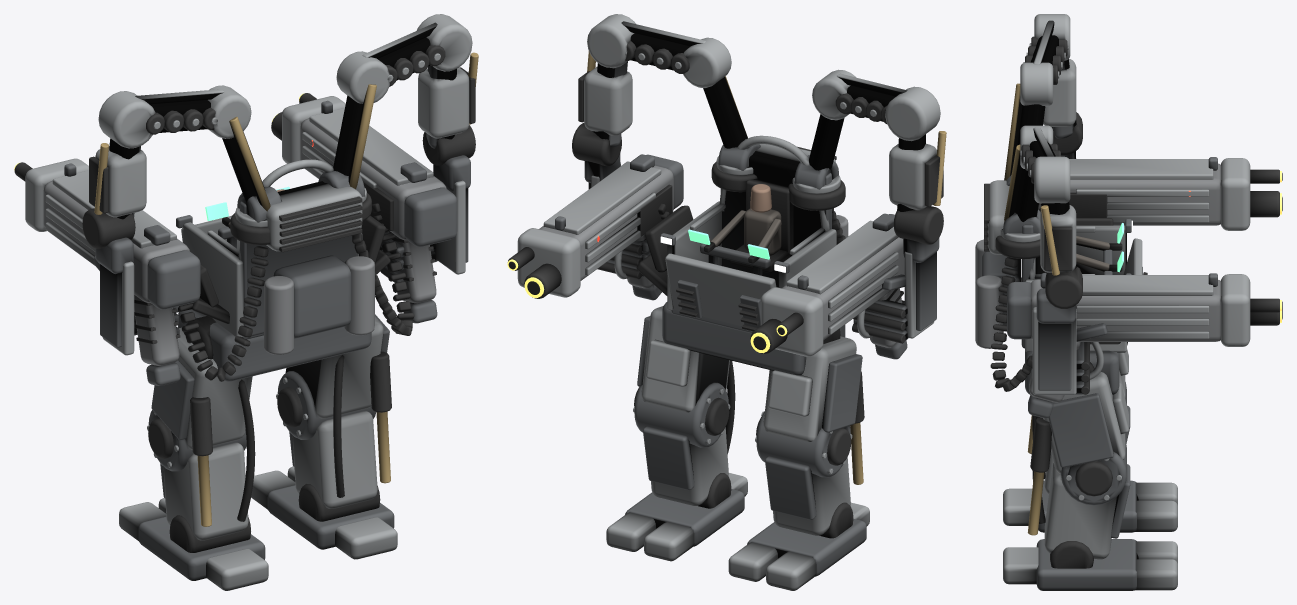
The model's file is apu.glb.
3 renders of one model, left to right at view 1: azimuth 30°, elevation 25°; view 2: azimuth 150°, elevation 25°; view 3: azimuth 270°, elevation 25°, orthographic. The views are drawn at different scales.
Visible parts, largest first — view 1: Body_mesh, LegL_mesh, LegR_mesh, ArmL_mesh, ArmR_mesh, SpinR_mesh, SpinL_mesh, GunL_mesh, GunR_mesh, BarrelsR_mesh, BarrelsL_mesh; view 2: Body_mesh, LegL_mesh, LegR_mesh, ArmR_mesh, ArmL_mesh, SpinR_mesh, SpinL_mesh, GunL_mesh, BarrelsL_mesh, BarrelsR_mesh, GunR_mesh, Pilot_mesh; view 3: LegR_mesh, SpinR_mesh, Body_mesh, SpinL_mesh, ArmR_mesh, ArmL_mesh, GunR_mesh, LegL_mesh, BarrelsL_mesh, BarrelsR_mesh, GunL_mesh, Pilot_mesh.
Boxes of the visible parts, <box> form: Body_mesh: <box>176,159,390,381</box>; LegL_mesh: <box>119,327,268,590</box>; LegR_mesh: <box>251,314,397,559</box>; ArmL_mesh: <box>89,85,281,381</box>; ArmR_mesh: <box>318,14,478,335</box>; SpinR_mesh: <box>300,100,457,323</box>; SpinL_mesh: <box>43,163,200,385</box>; GunL_mesh: <box>82,208,179,355</box>; GunR_mesh: <box>380,125,475,282</box>; BarrelsR_mesh: <box>271,93,345,163</box>; BarrelsL_mesh: <box>14,158,88,231</box>; Body_mesh: <box>636,135,848,375</box>; LegL_mesh: <box>728,336,869,590</box>; LegR_mesh: <box>606,306,747,561</box>; ArmR_mesh: <box>578,14,760,219</box>; ArmL_mesh: <box>794,69,946,244</box>; SpinR_mesh: <box>539,154,683,300</box>; SpinL_mesh: <box>781,213,907,359</box>; GunL_mesh: <box>852,206,943,343</box>; BarrelsL_mesh: <box>750,287,823,356</box>; BarrelsR_mesh: <box>507,228,580,298</box>; GunR_mesh: <box>572,123,650,279</box>; Pilot_mesh: <box>710,184,781,255</box>; LegR_mesh: <box>1003,372,1177,590</box>; SpinR_mesh: <box>1007,273,1221,418</box>; Body_mesh: <box>975,180,1147,394</box>; SpinL_mesh: <box>1069,157,1221,225</box>; ArmR_mesh: <box>990,125,1076,391</box>; ArmL_mesh: <box>1004,14,1076,281</box>; GunR_mesh: <box>1032,266,1107,394</box>; LegL_mesh: <box>1003,349,1177,532</box>; BarrelsL_mesh: <box>1220,158,1282,230</box>; BarrelsR_mesh: <box>1220,274,1282,346</box>; GunL_mesh: <box>1051,112,1082,158</box>; Pilot_mesh: <box>1046,236,1109,272</box>.
Bounding box in the file's own units: 5.14 × 6.45 × 3.91.
